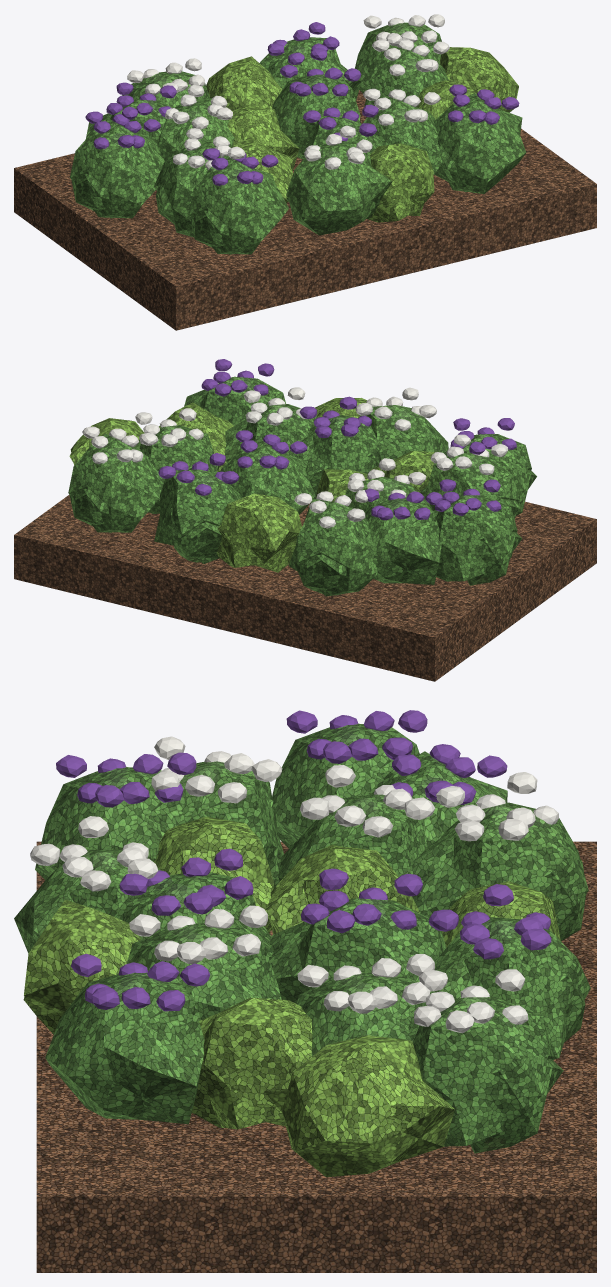
3 renders of one model, top to bottom at view 1: azimuth 30°, elevation 25°; view 2: azimuth 150°, elevation 25°; view 3: azimuth 270°, elevation 25°, orthographic. The views are drawn at different scales.
Parts seen in each view (by area): view 1: landscape.perennials, biljka-0-0.6- (×14), biljka-1-0.6- (×14), biljka-2-0.6- (×6); view 2: landscape.perennials, biljka-0-0.6- (×14), biljka-1-0.6- (×14), biljka-2-0.6- (×6); view 3: landscape.perennials, biljka-0-0.6- (×14), biljka-1-0.6- (×14), biljka-2-0.6- (×6).
Part boxes in pixels (x1=…): landscape.perennials: x1=14, y1=90, x2=596, y2=330; biljka-0-0.6- (×14): x1=70, y1=22, x2=526, y2=254; biljka-1-0.6- (×14): x1=122, y1=14, x2=449, y2=237; biljka-2-0.6- (×6): x1=206, y1=47, x2=518, y2=222; landscape.perennials: x1=14, y1=495, x2=596, y2=681; biljka-0-0.6- (×14): x1=154, y1=359, x2=536, y2=585; biljka-1-0.6- (×14): x1=68, y1=387, x2=519, y2=596; biljka-2-0.6- (×6): x1=69, y1=398, x2=434, y2=572; landscape.perennials: x1=36, y1=841, x2=596, y2=1272; biljka-0-0.6- (×14): x1=35, y1=710, x2=590, y2=1124; biljka-1-0.6- (×14): x1=14, y1=736, x2=588, y2=1153; biljka-2-0.6- (×6): x1=23, y1=816, x2=560, y2=1177.
Bounding box in the file's own units: 3.13 × 2.08 × 0.8969.
Materials: 5 (3 with a texture image).
